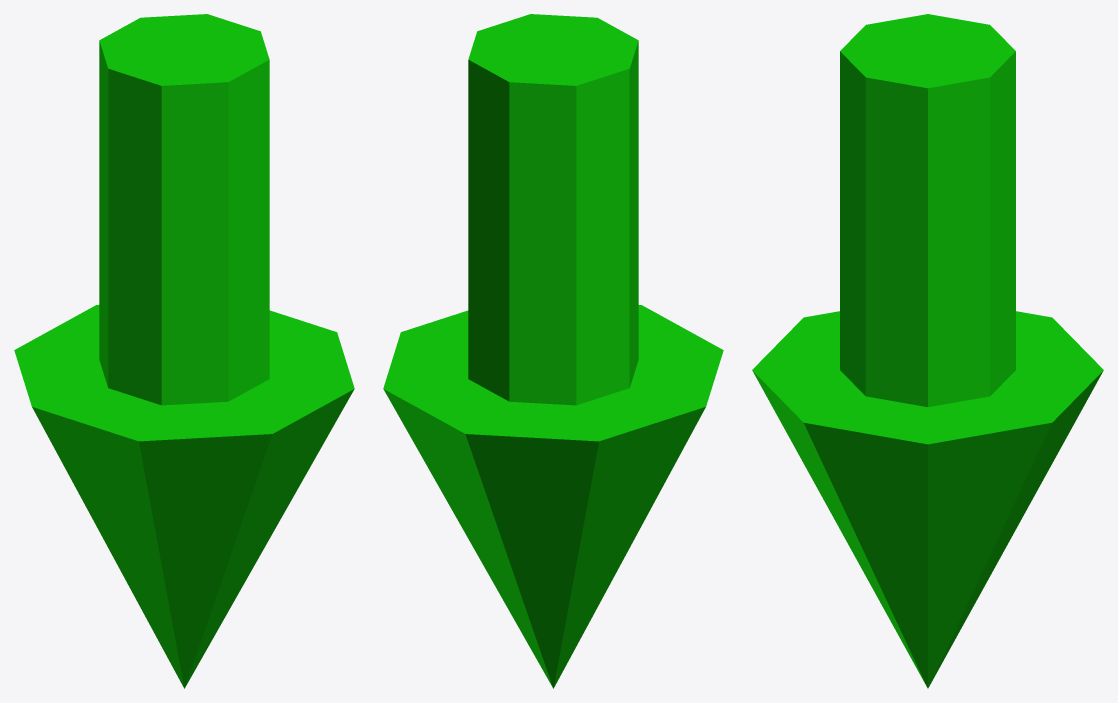
The model's file is pointer.fbx.
3 renders of one model, left to right at view 1: azimuth 30°, elevation 25°; view 2: azimuth 150°, elevation 25°; view 3: azimuth 270°, elevation 25°, orthographic.
Parts seen in each view (by area): view 1: Cylinder, Cone; view 2: Cylinder, Cone; view 3: Cylinder, Cone.
Part boxes in pixels (<box>): Cylinder: <box>99,14,269,405</box>; Cone: <box>14,305,354,688</box>; Cylinder: <box>468,14,638,405</box>; Cone: <box>383,305,723,688</box>; Cylinder: <box>840,14,1015,407</box>; Cone: <box>752,311,1103,688</box>.
Size of the model in its own units: 200 by 400 by 200.
